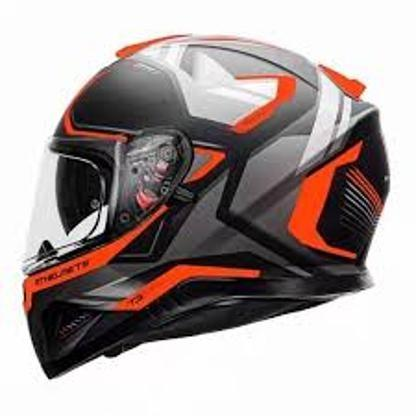not trash: (16, 33, 392, 380)
